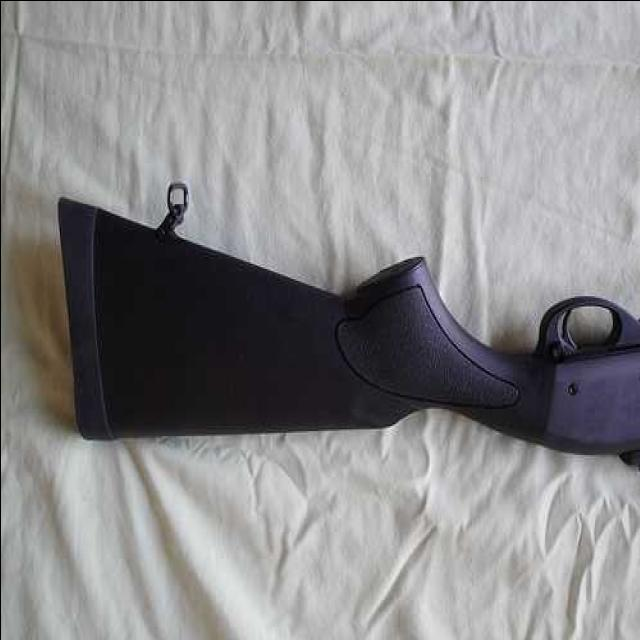heavyweapon: (46, 222, 640, 500)
